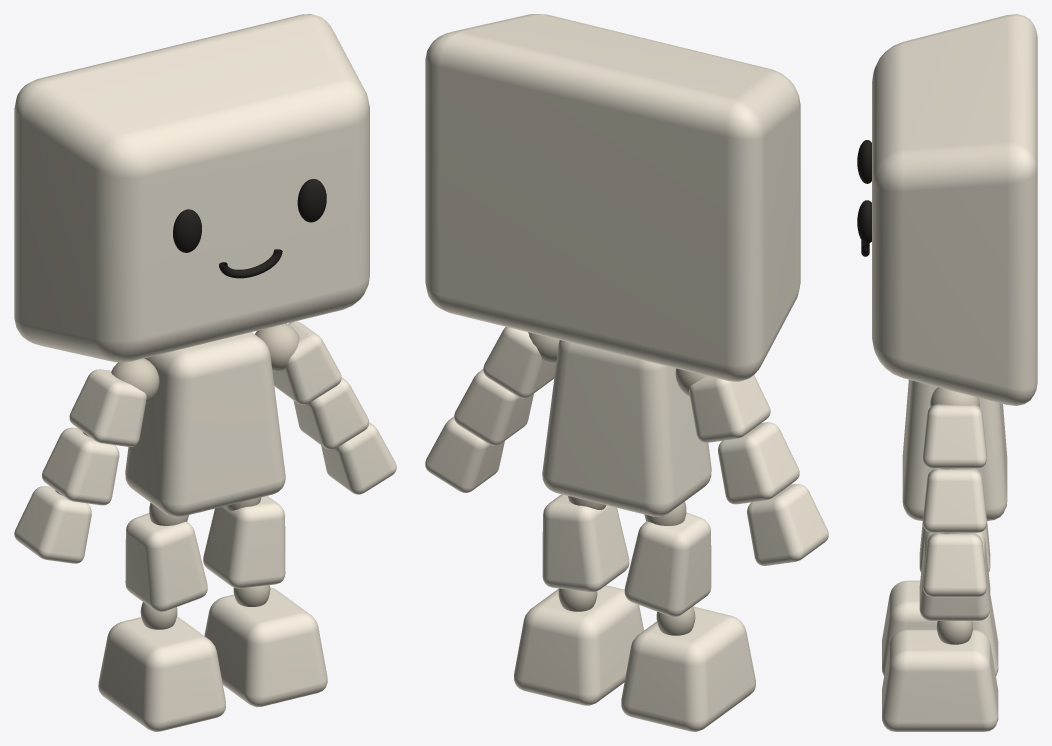
File: opencmo-mascot.glb
3 views of the same model, side by side, from view 1: azimuth 30°, elevation 25°; view 2: azimuth 150°, elevation 25°; view 3: azimuth 270°, elevation 25° (orthographic). The views are drawn at different scales.
Visible parts, largest first — view 1: Head keycap, Slim torso, Foot keycap, Foot keycap.001, Leg keycap, Leg keycap.001, Left arm key 1, Left arm key 2, Left arm key 0, Right arm key 0, Right arm key 2, Right arm key 1 (+7 smaller); view 2: Head keycap, Slim torso, Foot keycap, Foot keycap.001, Leg keycap, Leg keycap.001, Left arm key 1, Left arm key 2, Left arm key 0, Right arm key 1, Right arm key 2, Right arm key 0 (+2 smaller); view 3: Head keycap, Foot keycap.001, Slim torso, Right arm key 2, Right arm key 0, Right arm key 1, Foot keycap, Leg keycap.001, Ankle.001, Shoulder joint.001, Eye.001, Eye (+1 smaller).
Part boxes in pixels (x1,y1,x2,y2): Head keycap: [14, 14, 369, 362]; Slim torso: [125, 332, 285, 517]; Foot keycap: [98, 616, 225, 731]; Foot keycap.001: [204, 587, 327, 707]; Leg keycap: [125, 513, 207, 611]; Leg keycap.001: [203, 496, 285, 588]; Left arm key 1: [42, 427, 119, 505]; Left arm key 2: [14, 486, 91, 563]; Left arm key 0: [69, 369, 146, 446]; Right arm key 0: [272, 321, 341, 404]; Right arm key 2: [321, 422, 396, 494]; Right arm key 1: [293, 377, 368, 449]; Head keycap: [425, 14, 800, 381]; Slim torso: [542, 340, 711, 516]; Foot keycap: [621, 606, 755, 731]; Foot keycap.001: [514, 585, 643, 705]; Leg keycap: [624, 512, 711, 616]; Leg keycap.001: [542, 494, 629, 592]; Left arm key 1: [718, 422, 799, 504]; Left arm key 2: [747, 484, 828, 565]; Left arm key 0: [689, 375, 770, 442]; Right arm key 1: [454, 369, 533, 445]; Right arm key 2: [425, 416, 504, 492]; Right arm key 0: [483, 327, 555, 398]; Head keycap: [872, 14, 1037, 405]; Foot keycap.001: [882, 629, 998, 731]; Slim torso: [902, 380, 1007, 520]; Right arm key 2: [923, 533, 986, 597]; Right arm key 0: [923, 404, 986, 468]; Right arm key 1: [923, 468, 986, 532]; Foot keycap: [882, 580, 998, 675]; Leg keycap.001: [919, 532, 990, 620]; Ankle.001: [936, 621, 972, 644]; Shoulder joint.001: [930, 387, 979, 406]; Eye.001: [857, 200, 871, 243]; Eye: [857, 140, 871, 183].
Size of the model in its own units: 2.47 by 4.08 by 1.09.
